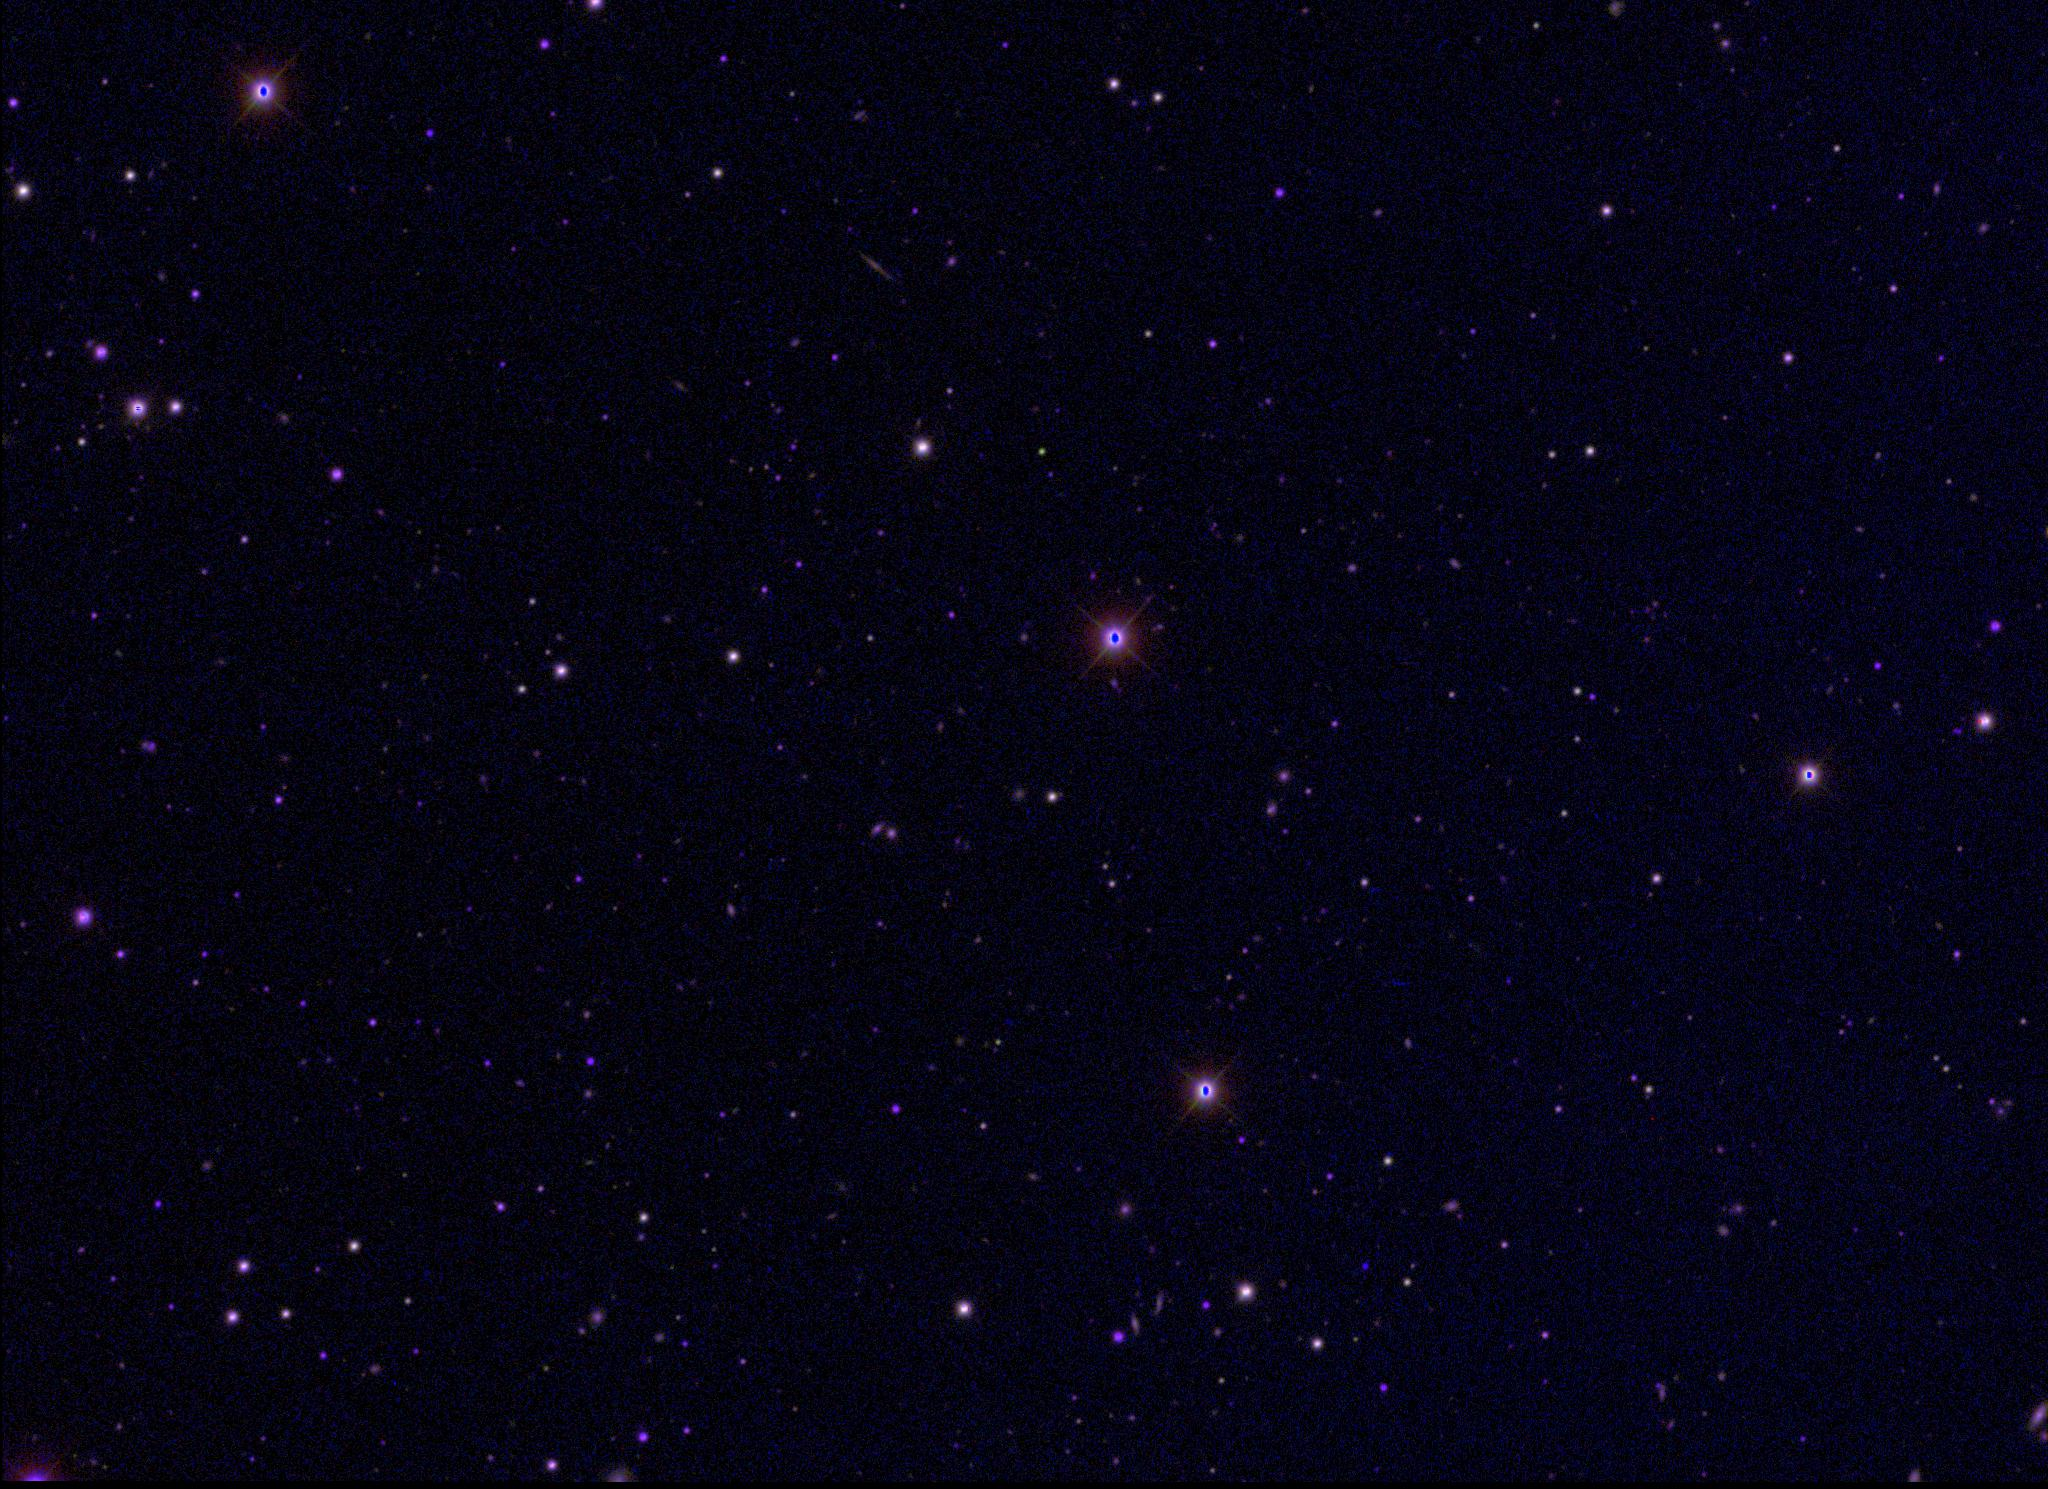L: (1358, 1258, 1372, 1273)
